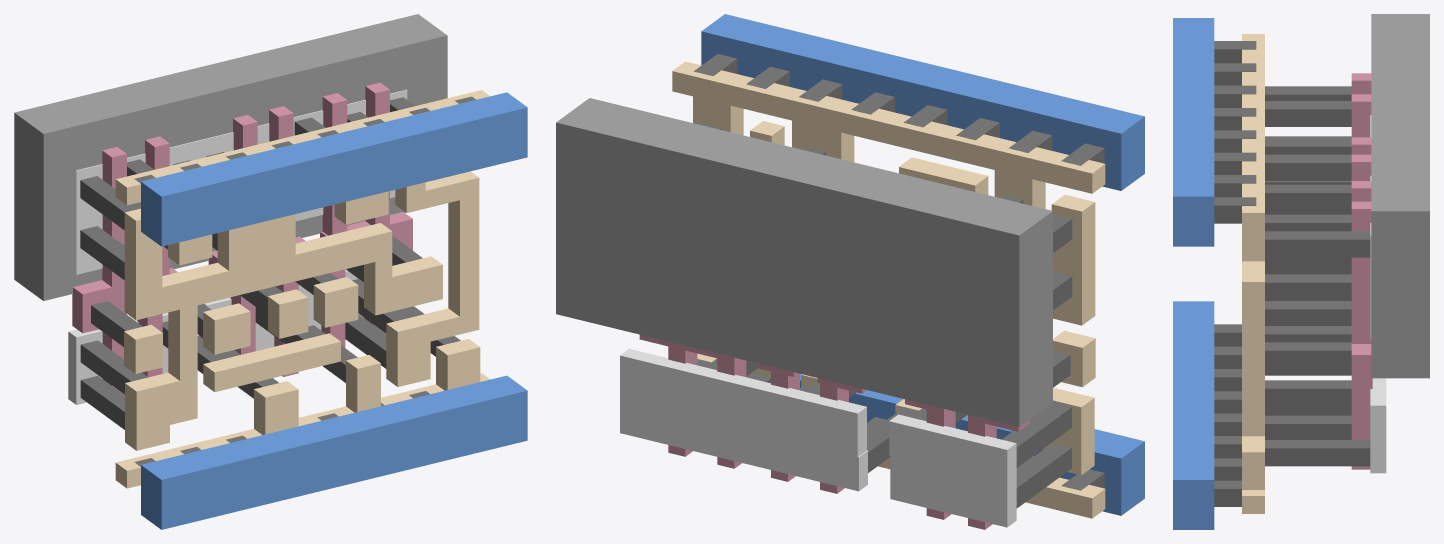
File: sky130_fd_sc_hd__o211a_2.gds.gltf
3 views of the same model, side by side, from view 1: azimuth 30°, elevation 25°; view 2: azimuth 150°, elevation 25°; view 3: azimuth 270°, elevation 25° (orthographic). The views are drawn at different scales.
Parts seen in each view (by area): view 1: sky130_fd_sc_hd__o211a_2_li1, sky130_fd_sc_hd__o211a_2_met1, sky130_fd_sc_hd__o211a_2_nwell, sky130_fd_sc_hd__o211a_2_licon, sky130_fd_sc_hd__o211a_2_poly, sky130_fd_sc_hd__o211a_2_diff, sky130_fd_sc_hd__o211a_2_mcon; view 2: sky130_fd_sc_hd__o211a_2_nwell, sky130_fd_sc_hd__o211a_2_diff, sky130_fd_sc_hd__o211a_2_li1, sky130_fd_sc_hd__o211a_2_met1, sky130_fd_sc_hd__o211a_2_licon, sky130_fd_sc_hd__o211a_2_mcon, sky130_fd_sc_hd__o211a_2_poly; view 3: sky130_fd_sc_hd__o211a_2_licon, sky130_fd_sc_hd__o211a_2_nwell, sky130_fd_sc_hd__o211a_2_met1, sky130_fd_sc_hd__o211a_2_mcon, sky130_fd_sc_hd__o211a_2_li1, sky130_fd_sc_hd__o211a_2_poly, sky130_fd_sc_hd__o211a_2_diff.
Boxes of the visible parts, <box> form: sky130_fd_sc_hd__o211a_2_li1: <box>115,90,489,488</box>; sky130_fd_sc_hd__o211a_2_met1: <box>141,92,527,529</box>; sky130_fd_sc_hd__o211a_2_nwell: <box>14,14,447,300</box>; sky130_fd_sc_hd__o211a_2_licon: <box>80,97,460,429</box>; sky130_fd_sc_hd__o211a_2_poly: <box>72,82,412,395</box>; sky130_fd_sc_hd__o211a_2_diff: <box>68,89,407,404</box>; sky130_fd_sc_hd__o211a_2_mcon: <box>134,96,475,466</box>; sky130_fd_sc_hd__o211a_2_nwell: <box>556,98,1052,426</box>; sky130_fd_sc_hd__o211a_2_diff: <box>620,349,1016,527</box>; sky130_fd_sc_hd__o211a_2_li1: <box>672,61,1105,518</box>; sky130_fd_sc_hd__o211a_2_met1: <box>701,14,1144,515</box>; sky130_fd_sc_hd__o211a_2_licon: <box>697,123,1072,508</box>; sky130_fd_sc_hd__o211a_2_mcon: <box>694,54,1104,490</box>; sky130_fd_sc_hd__o211a_2_poly: <box>639,334,1030,529</box>; sky130_fd_sc_hd__o211a_2_licon: <box>1265,86,1370,466</box>; sky130_fd_sc_hd__o211a_2_nwell: <box>1371,14,1429,378</box>; sky130_fd_sc_hd__o211a_2_met1: <box>1173,18,1214,529</box>; sky130_fd_sc_hd__o211a_2_mcon: <box>1214,41,1256,506</box>; sky130_fd_sc_hd__o211a_2_li1: <box>1242,34,1264,513</box>; sky130_fd_sc_hd__o211a_2_poly: <box>1351,73,1372,469</box>; sky130_fd_sc_hd__o211a_2_diff: <box>1370,115,1386,473</box>.
Bounding box in the file's own units: 4.06 × 3.2 × 2.24.
